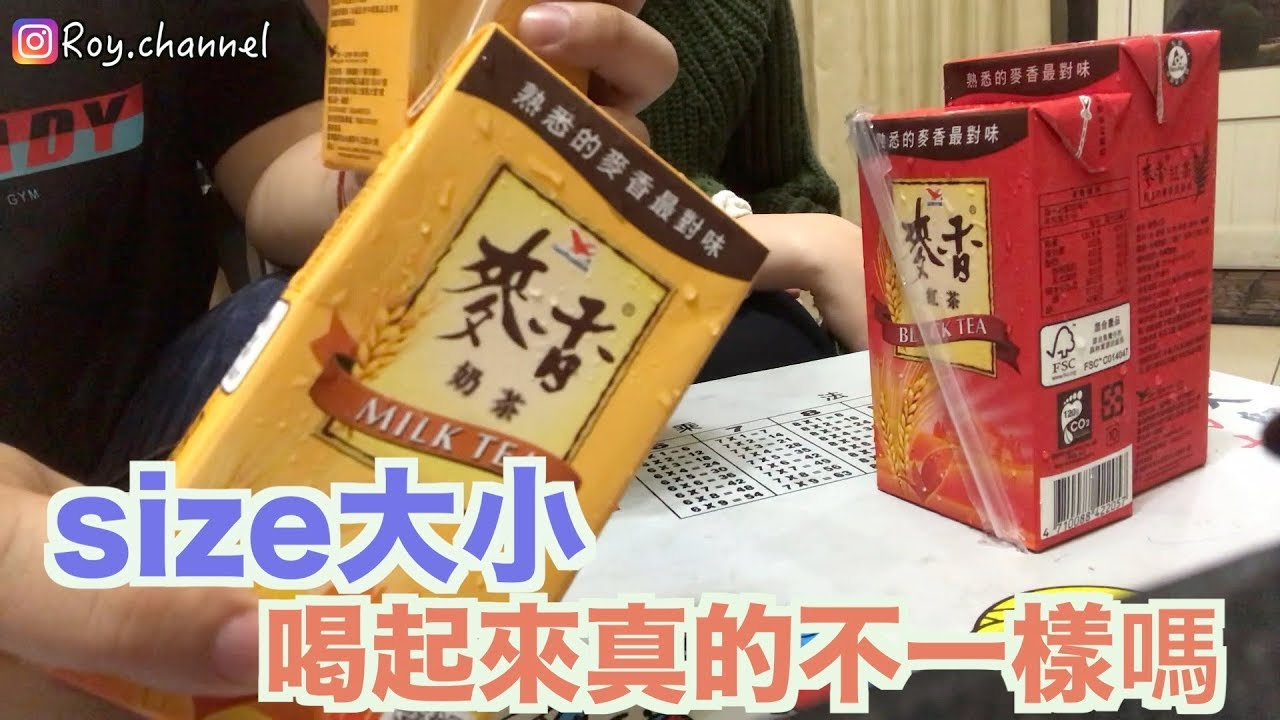milk tea: (158, 47, 761, 487)
